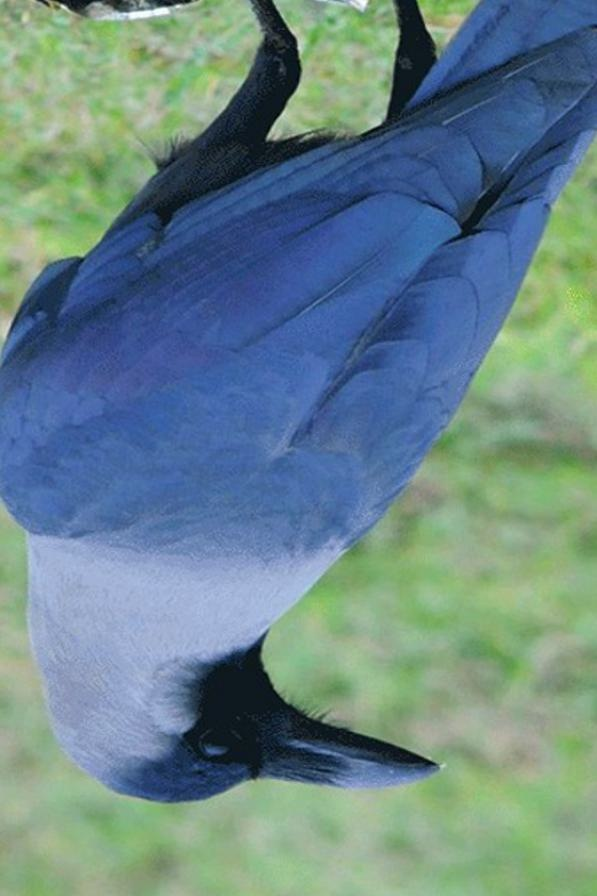crow: (1, 1, 540, 823)
